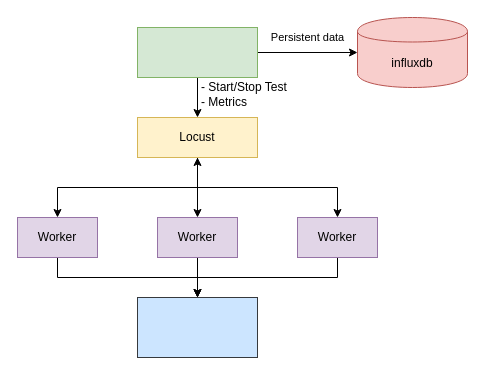
Some shapes in this 485 by 375 pixel diagram are drawn without their labels. Here are the shapes that lost their labels. From the top down, the centre of each, then its label:
At point 197,52: "Zalopay Cannon".
At point 197,327: "Target System".
